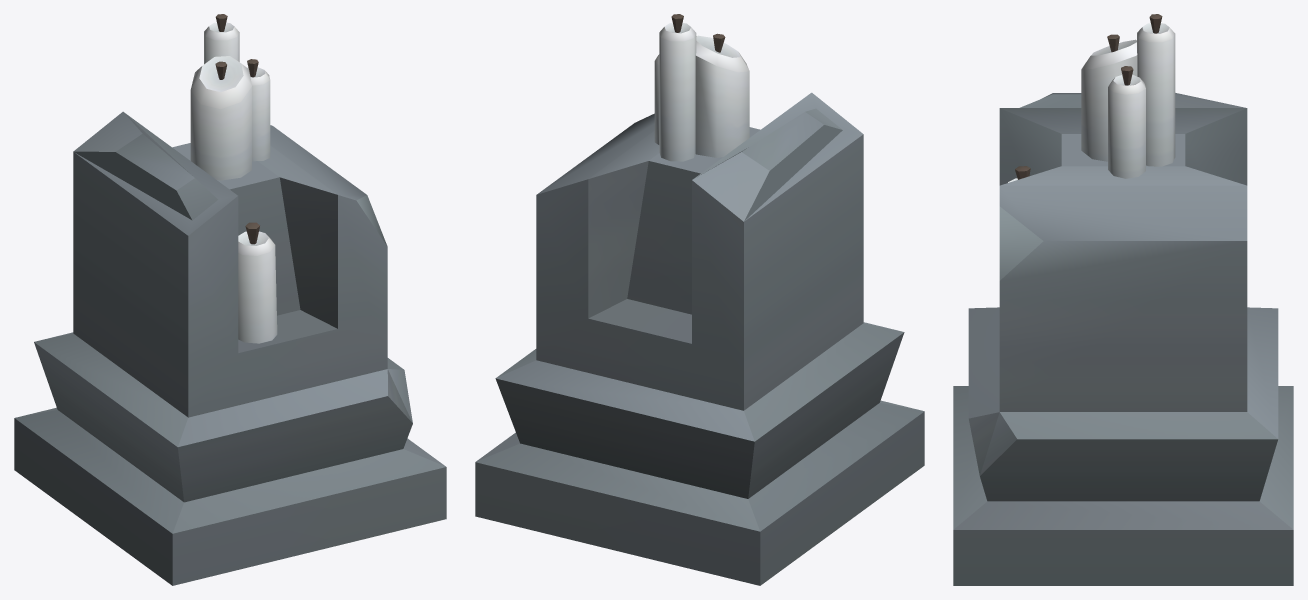
Rendered from h_shrine_candles.glb.
3 views of the same model, side by side, from view 1: azimuth 30°, elevation 25°; view 2: azimuth 150°, elevation 25°; view 3: azimuth 270°, elevation 25° (orthographic). The views are drawn at different scales.
Parts seen in each view (by area): view 1: shrine_candles; view 2: shrine_candles; view 3: shrine_candles.
Part boxes in pixels (x1=…): shrine_candles: x1=14, y1=14, x2=446, y2=585; shrine_candles: x1=475, y1=14, x2=924, y2=585; shrine_candles: x1=953, y1=14, x2=1293, y2=585.
Size of the model in its own units: 1.1 by 1.79 by 1.1.
Materials: 1 (1 with a texture image).
